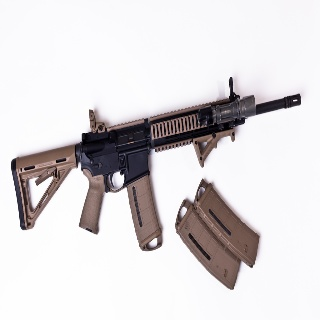rifle: (9, 75, 305, 253)
